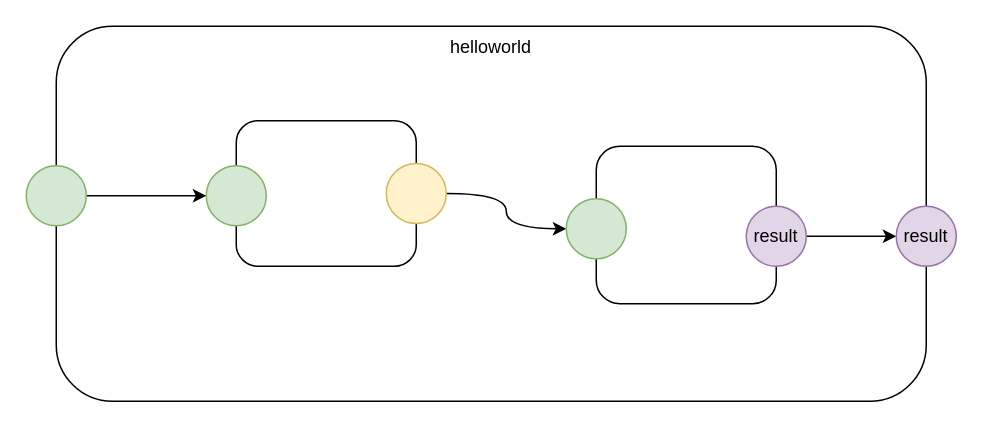
This 983x428 diagram has some shape labels left out. Here are the shapes that lost their labels. From the top down, the box of each, then its label:
(235, 119, 416, 266): hello
(595, 145, 776, 304): world
